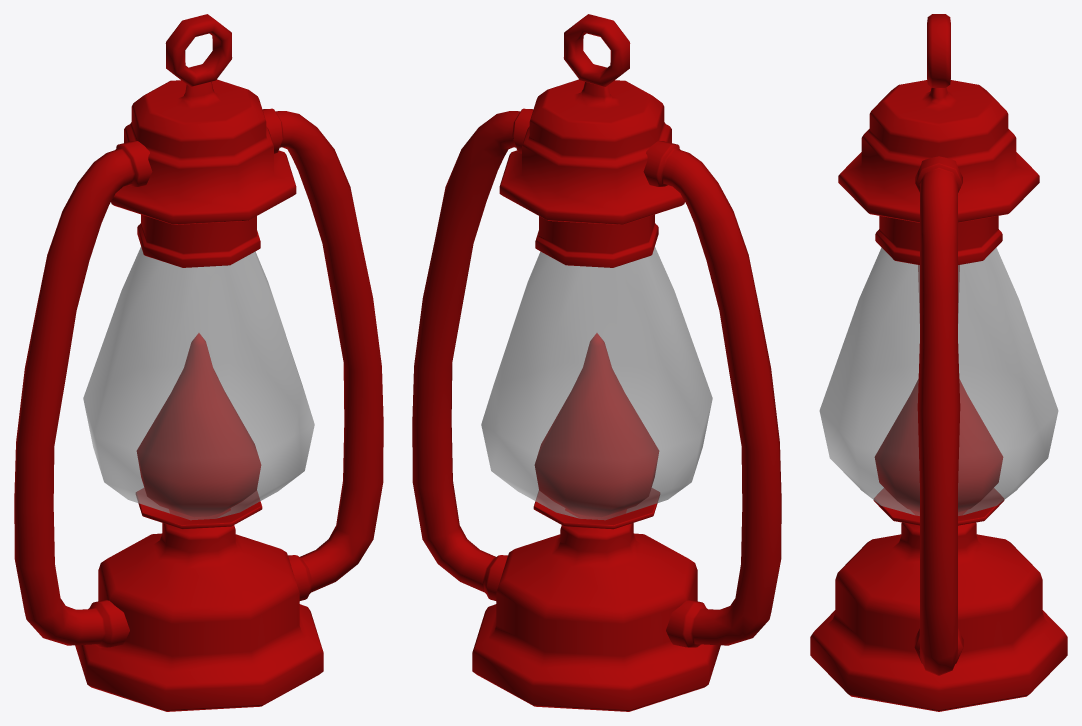
File: Lanterne.fbx
3 renders of one model, left to right at view 1: azimuth 30°, elevation 25°; view 2: azimuth 150°, elevation 25°; view 3: azimuth 270°, elevation 25°, orthographic.
Visible parts, largest first — view 1: Glass_low, Bottom_low, Left_low, Right_low, Top_low, Flamme_low, TopBot_low, TopDonnut_low; view 2: Glass_low, Bottom_low, Left_low, Right_low, Top_low, Flamme_low, TopBot_low, TopDonnut_low; view 3: Glass_low, Bottom_low, Right_low, Top_low, Flamme_low, TopBot_low, TopDonnut_low.
Part boxes in pixels (x1=…): Glass_low: x1=83, y1=246, x2=314, y2=520; Bottom_low: x1=75, y1=488, x2=323, y2=711; Left_low: x1=14, y1=141, x2=152, y2=647; Right_low: x1=262, y1=108, x2=383, y2=600; Top_low: x1=111, y1=79, x2=296, y2=224; Flamme_low: x1=136, y1=333, x2=261, y2=517; TopBot_low: x1=137, y1=214, x2=260, y2=267; TopDonnut_low: x1=165, y1=14, x2=232, y2=86; Glass_low: x1=481, y1=246, x2=712, y2=520; Bottom_low: x1=472, y1=488, x2=720, y2=711; Left_low: x1=643, y1=141, x2=781, y2=647; Right_low: x1=412, y1=108, x2=533, y2=600; Top_low: x1=499, y1=79, x2=684, y2=224; Flamme_low: x1=534, y1=333, x2=659, y2=517; TopBot_low: x1=535, y1=214, x2=658, y2=267; TopDonnut_low: x1=563, y1=14, x2=630, y2=86; Glass_low: x1=819, y1=247, x2=1058, y2=515; Bottom_low: x1=810, y1=488, x2=1067, y2=711; Right_low: x1=914, y1=156, x2=963, y2=675; Top_low: x1=838, y1=80, x2=1039, y2=222; Flamme_low: x1=874, y1=379, x2=1003, y2=512; TopBot_low: x1=875, y1=216, x2=1002, y2=264; TopDonnut_low: x1=927, y1=14, x2=950, y2=87.
Bounding box in the file's own units: 29.52 × 49.42 × 18.
